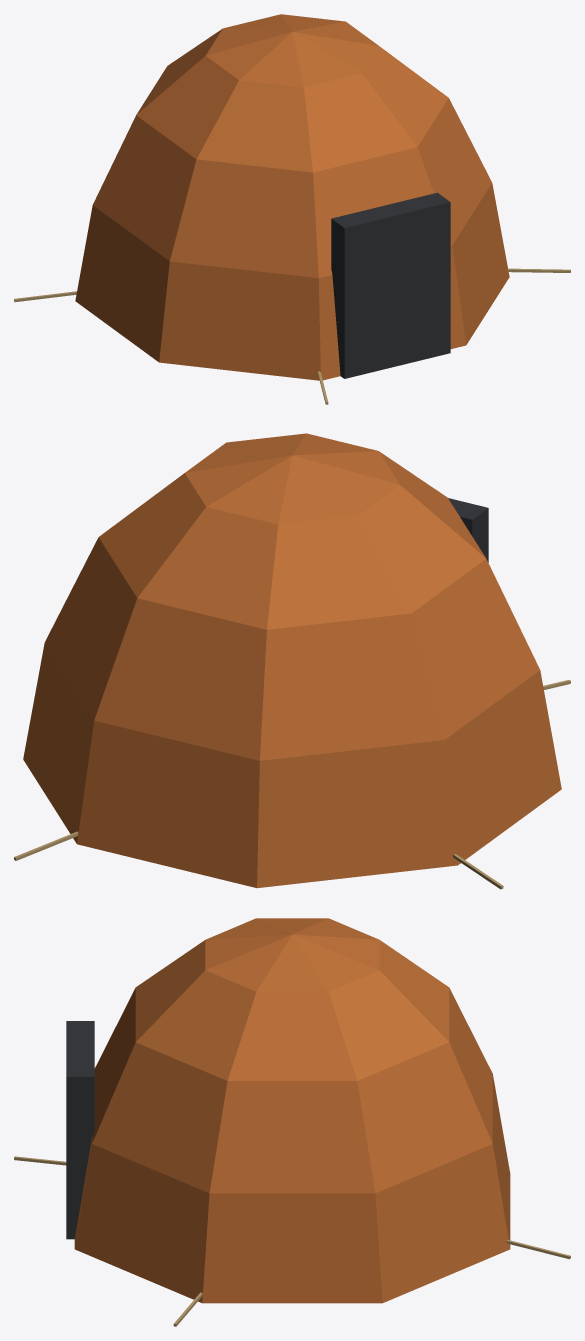
The model's file is SM_Borgo_Tent_Dome_Orange.glb.
3 views of the same model, one above another, from view 1: azimuth 30°, elevation 25°; view 2: azimuth 150°, elevation 25°; view 3: azimuth 270°, elevation 25° (orthographic). The views are drawn at different scales.
Visible parts, largest first — view 1: SM_Borgo_Tent_Dome_Orange; view 2: SM_Borgo_Tent_Dome_Orange; view 3: SM_Borgo_Tent_Dome_Orange.
Boxes of the visible parts, x1,y1,x2,y2 form: SM_Borgo_Tent_Dome_Orange: (14,14,570,404); SM_Borgo_Tent_Dome_Orange: (14,433,570,889); SM_Borgo_Tent_Dome_Orange: (14,918,570,1326).
Size of the model in its own units: 2.95 by 1.62 by 2.95.
1 material, 1 textured.
